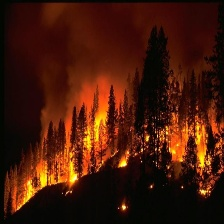fire: (164, 140, 213, 175), (17, 183, 41, 209), (65, 162, 83, 192), (109, 152, 133, 171), (196, 184, 214, 199), (120, 200, 128, 210)
smoke: (30, 1, 211, 94)
